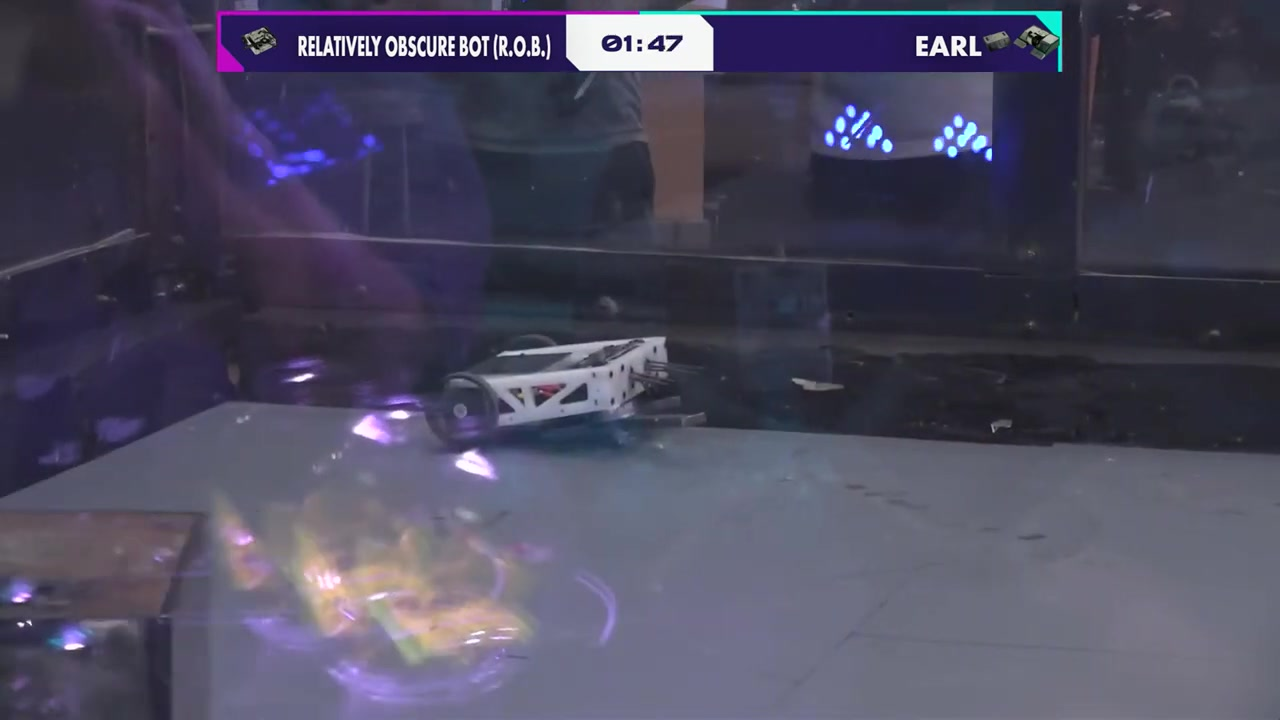combatbot: (417, 331, 716, 455)
housebot: (0, 502, 221, 720)
